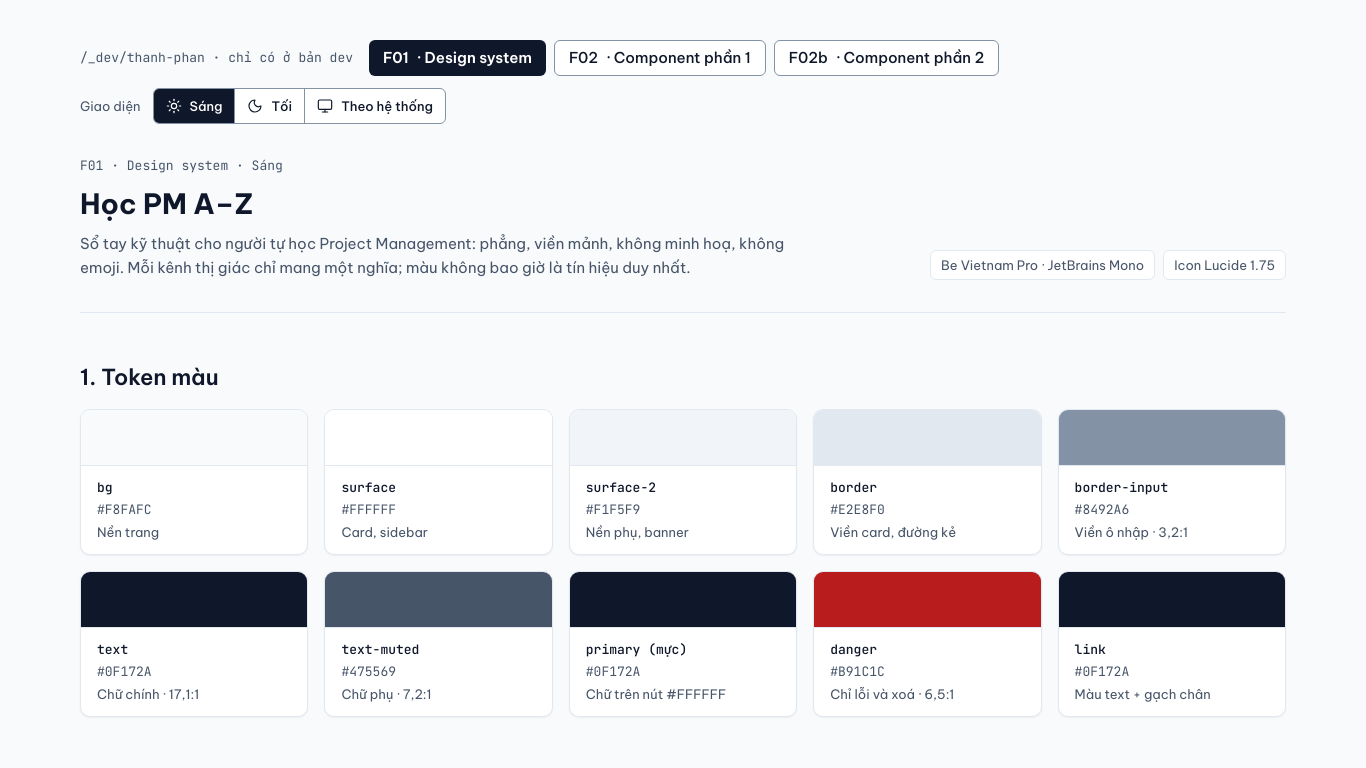
gallery F01 › có ChonGiaoDien; đổi sang Tối thì nhãn frame đổi theo
Expected: the heading "Học PM A–Z" is shown, [80,186,253,221]
Expected: the text "F01 · Design system · Sáng" is shown, [80,157,283,174]
Click the radio button labelled "Tối": (269, 106) [234,89,304,123]
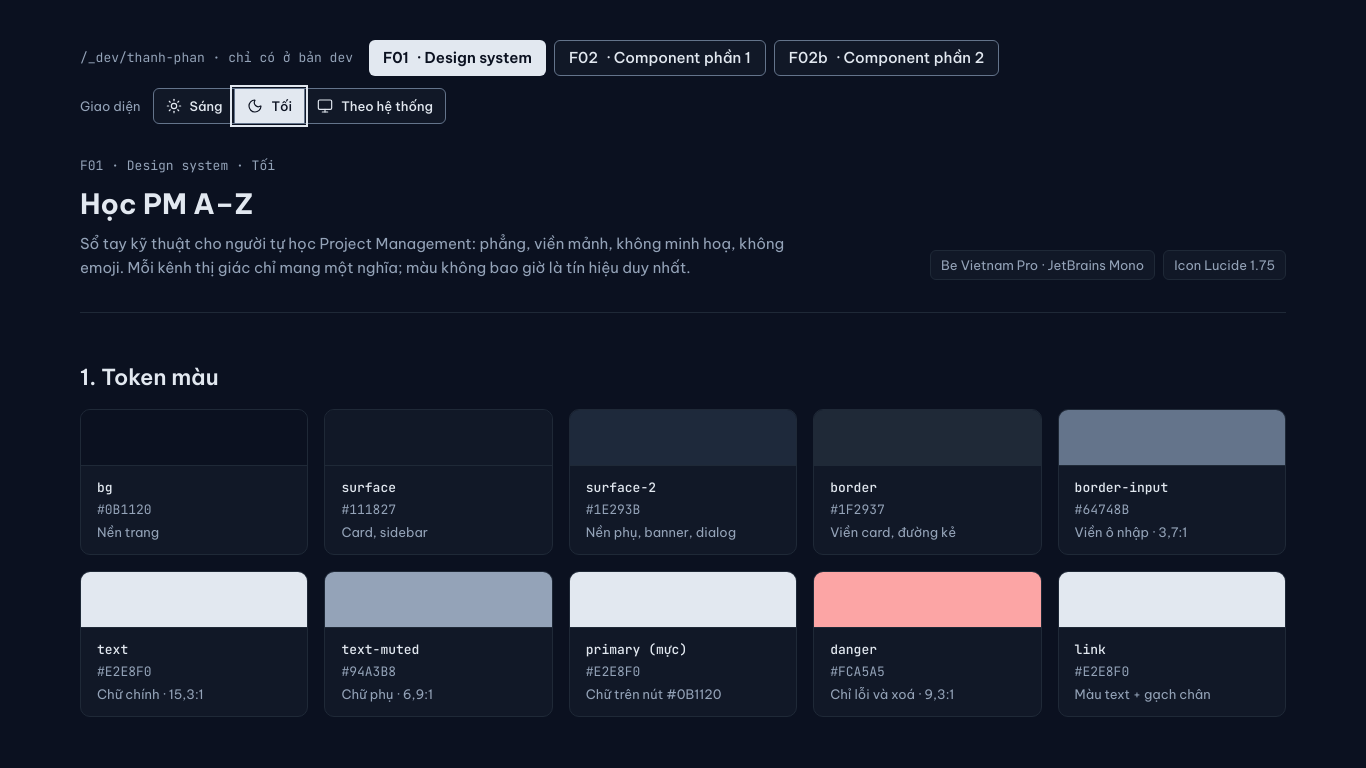
Expected: the text "F01 · Design system · Tối" is shown, [80,157,275,174]
